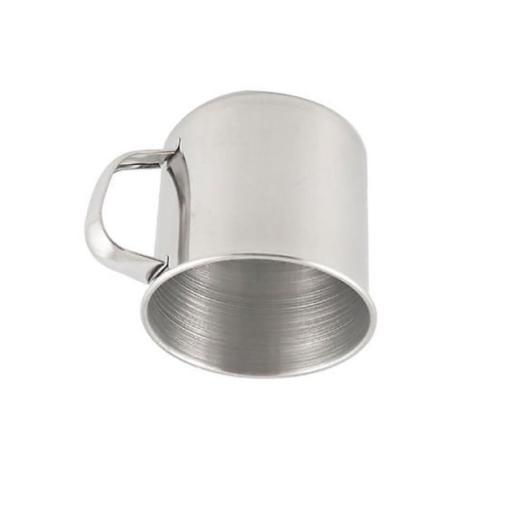cup: (86, 93, 375, 377)
